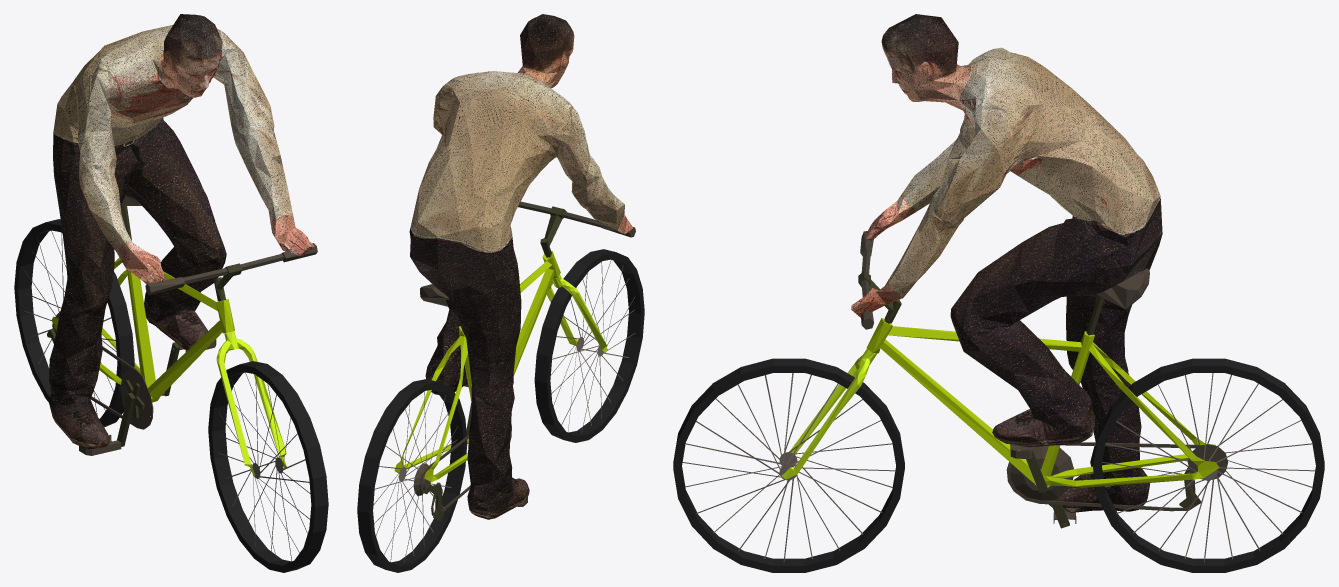
The model's file is bicycle_male_1.obj.
3 views of the same model, side by side, from view 1: azimuth 30°, elevation 25°; view 2: azimuth 150°, elevation 25°; view 3: azimuth 270°, elevation 25° (orthographic). The views are drawn at different scales.
Visible parts, largest first — view 1: StaticModelFinal, TIRE1, TREK_CUADRO1, SPOKES1, TREK_SILLIN1, TREK_HORQUILLA1, TREK_CROMO1, TREK_NEGRO_BRILL1; view 2: StaticModelFinal, TIRE1, TREK_CUADRO1, SPOKES1, TREK_SILLIN1, TREK_HORQUILLA1, TREK_CROMO1, TREK_NEGRO_BRILL1; view 3: StaticModelFinal, TIRE1, TREK_CUADRO1, SPOKES1, TREK_SILLIN1, TREK_HORQUILLA1, TREK_CROMO1.
Boxes of the visible parts, box(x1,y1,x2,y2) form: StaticModelFinal: box(48, 14, 314, 448); TIRE1: box(14, 219, 328, 572); TREK_CUADRO1: box(51, 257, 234, 402); SPOKES1: box(24, 230, 310, 562); TREK_SILLIN1: box(52, 195, 317, 455); TREK_HORQUILLA1: box(216, 331, 286, 476); TREK_CROMO1: box(47, 205, 242, 446); TREK_NEGRO_BRILL1: box(183, 253, 283, 284); StaticModelFinal: box(409, 14, 633, 519); TIRE1: box(357, 249, 644, 572); TREK_CUADRO1: box(394, 251, 560, 481); SPOKES1: box(373, 259, 635, 562); TREK_SILLIN1: box(413, 226, 635, 515); TREK_HORQUILLA1: box(546, 274, 607, 352); TREK_CROMO1: box(424, 206, 566, 520); TREK_NEGRO_BRILL1: box(518, 201, 612, 228); StaticModelFinal: box(851, 14, 1162, 512); TIRE1: box(673, 358, 1324, 572); TREK_CUADRO1: box(866, 318, 1219, 487); SPOKES1: box(682, 373, 1315, 562); TREK_SILLIN1: box(860, 231, 1228, 525); TREK_HORQUILLA1: box(782, 349, 877, 479); TREK_CROMO1: box(858, 271, 1201, 528).
Bounding box in the file's own units: 0.636 × 1.63 × 1.76.
Materials: 8 (1 with a texture image).
